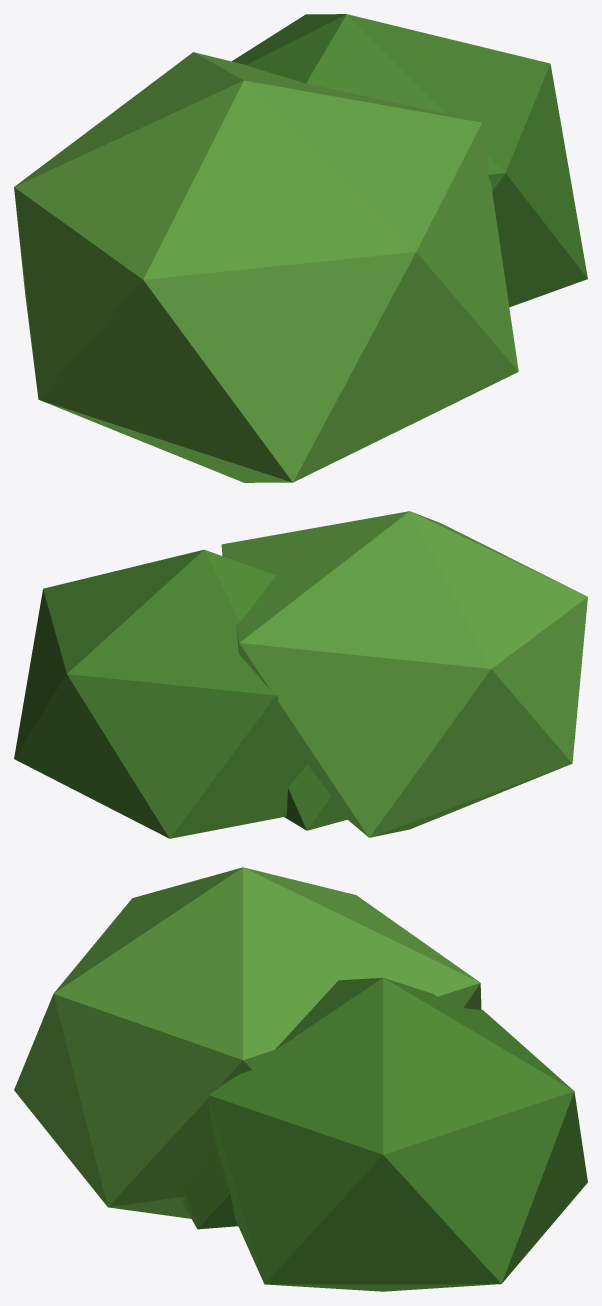
The model's file is HS_LP_Bush_03.fbx.
The picture shows the model from 3 angles, top to bottom: view 1: azimuth 30°, elevation 25°; view 2: azimuth 150°, elevation 25°; view 3: azimuth 270°, elevation 25°; orthographic projection. The views are drawn at different scales.
Visible parts, largest first — view 1: HS_LP_Bush_03; view 2: HS_LP_Bush_03; view 3: HS_LP_Bush_03.
Boxes of the visible parts, x1=… form: HS_LP_Bush_03: x1=14, y1=14, x2=587, y2=482; HS_LP_Bush_03: x1=14, y1=511, x2=587, y2=838; HS_LP_Bush_03: x1=14, y1=867, x2=587, y2=1291.
Size of the model in its own units: 121 by 79.02 by 115.
